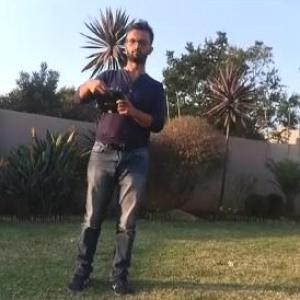follow: (59, 14, 168, 299)
